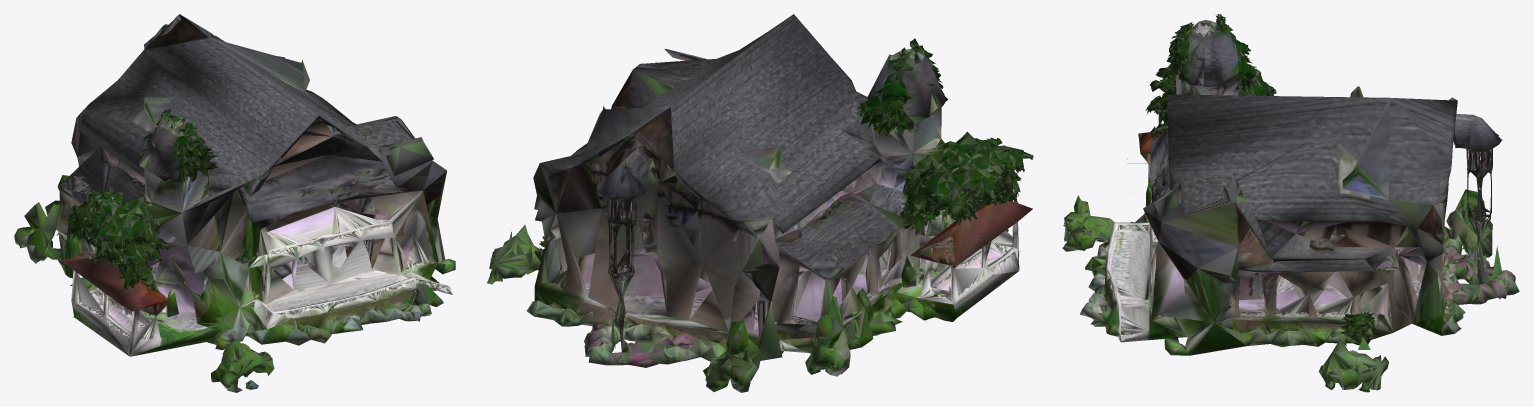
Rendered from house.glb.
3 renders of one model, left to right at view 1: azimuth 30°, elevation 25°; view 2: azimuth 150°, elevation 25°; view 3: azimuth 270°, elevation 25°, orthographic. The views are drawn at different scales.
Parts seen in each view (by area): view 1: house; view 2: house; view 3: house.
Boxes of the visible parts, bbox=[...] form: house: bbox=[14, 14, 455, 392]; house: bbox=[487, 14, 1033, 392]; house: bbox=[1062, 14, 1519, 392].
Size of the model in its own units: 1.89 by 1.05 by 1.87.
Materials: 1 (1 with a texture image).
